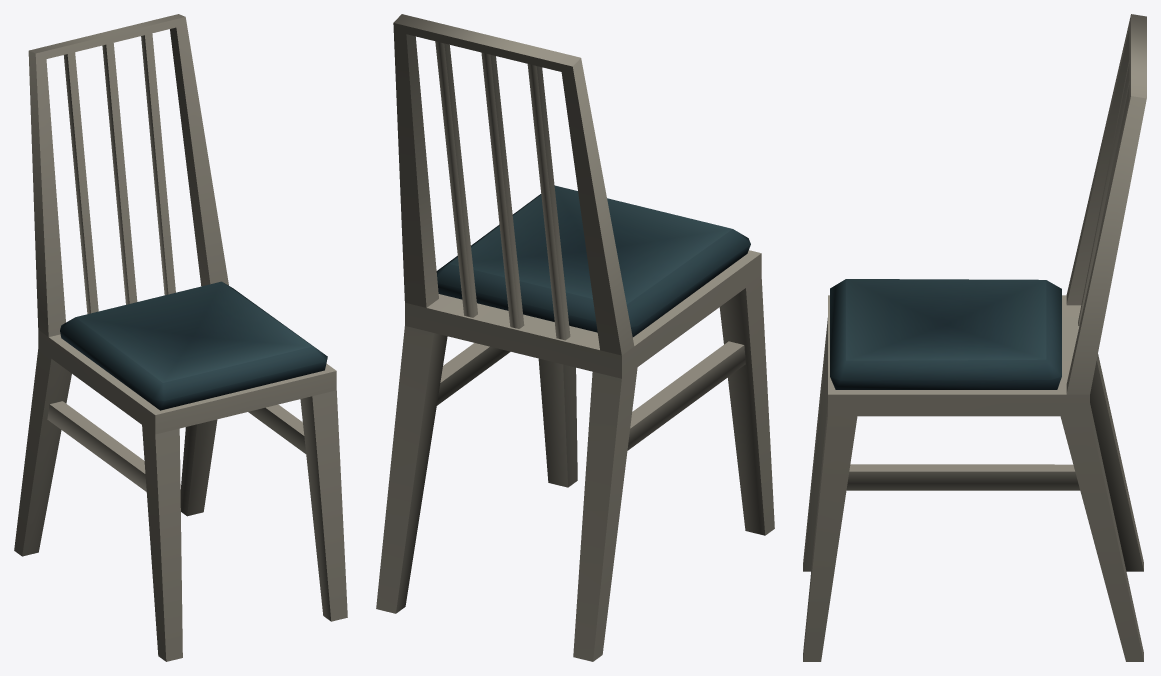
The model's file is TSP_Kitchen_Chair_01A.fbx.
3 views of the same model, side by side, from view 1: azimuth 30°, elevation 25°; view 2: azimuth 150°, elevation 25°; view 3: azimuth 270°, elevation 25° (orthographic). The views are drawn at different scales.
Visible parts, largest first — view 1: TSP_Kitchen_Chair_01A; view 2: TSP_Kitchen_Chair_01A; view 3: TSP_Kitchen_Chair_01A.
Boxes of the visible parts, bbox=[...] form: TSP_Kitchen_Chair_01A: bbox=[14, 14, 347, 661]; TSP_Kitchen_Chair_01A: bbox=[376, 14, 774, 661]; TSP_Kitchen_Chair_01A: bbox=[803, 14, 1146, 661].
Size of the model in its own units: 0.4776 by 1.25 by 0.699.
